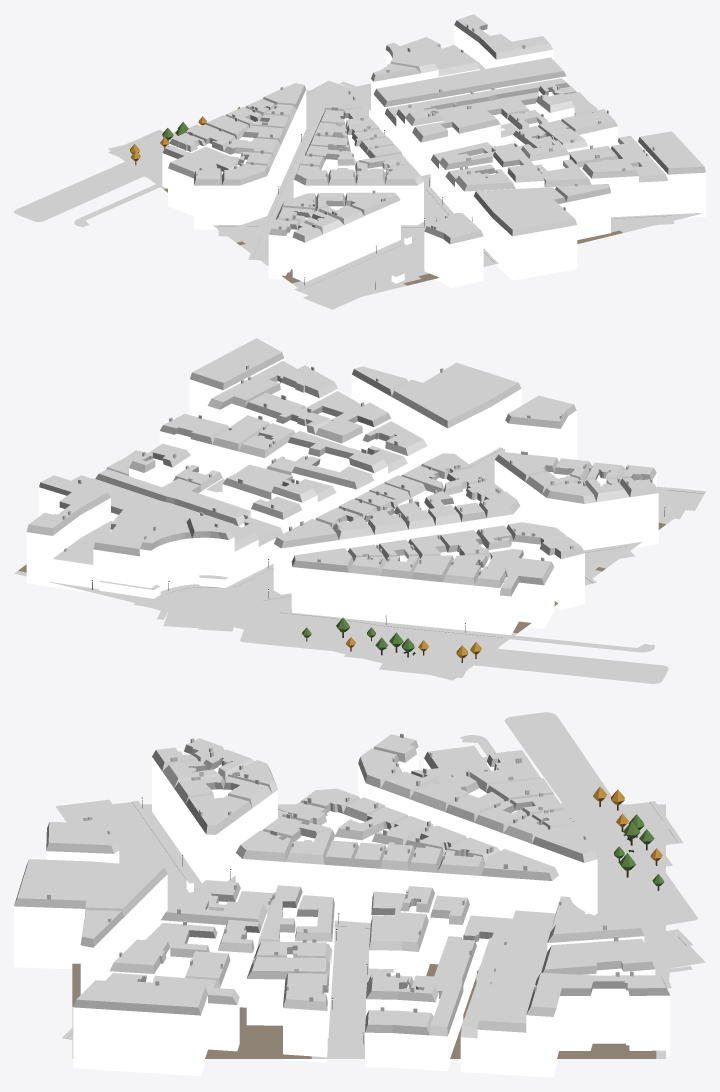
File: zone_G2.glb
3 views of the same model, one above another, from view 1: azimuth 30°, elevation 25°; view 2: azimuth 150°, elevation 25°; view 3: azimuth 270°, elevation 25° (orthographic). The views are drawn at different scales.
Visible parts, largest first — view 1: zone_G2_batiments, zone_G2_sol_NOCOL, zone_G2_terrain, zone_G2_decor_NOCOL; view 2: zone_G2_batiments, zone_G2_sol_NOCOL, zone_G2_terrain, zone_G2_decor_NOCOL; view 3: zone_G2_batiments, zone_G2_sol_NOCOL, zone_G2_terrain, zone_G2_decor_NOCOL.
Boxes of the visible parts, left/top/right/bottom form: zone_G2_batiments: left=162, top=14, right=705, bottom=288; zone_G2_sol_NOCOL: left=14, top=80, right=674, bottom=309; zone_G2_terrain: left=108, top=119, right=700, bottom=296; zone_G2_decor_NOCOL: left=130, top=107, right=472, bottom=289; zone_G2_batiments: left=26, top=338, right=658, bottom=640; zone_G2_sol_NOCOL: left=134, top=447, right=705, bottom=683; zone_G2_terrain: left=14, top=463, right=685, bottom=680; zone_G2_decor_NOCOL: left=91, top=507, right=665, bottom=662; zone_G2_batiments: left=14, top=733, right=670, bottom=1077; zone_G2_sol_NOCOL: left=55, top=712, right=705, bottom=1058; zone_G2_terrain: left=72, top=804, right=665, bottom=1058; zone_G2_decor_NOCOL: left=141, top=786, right=663, bottom=1043.
Bounding box in the file's own units: 266 × 25.19 × 217.
